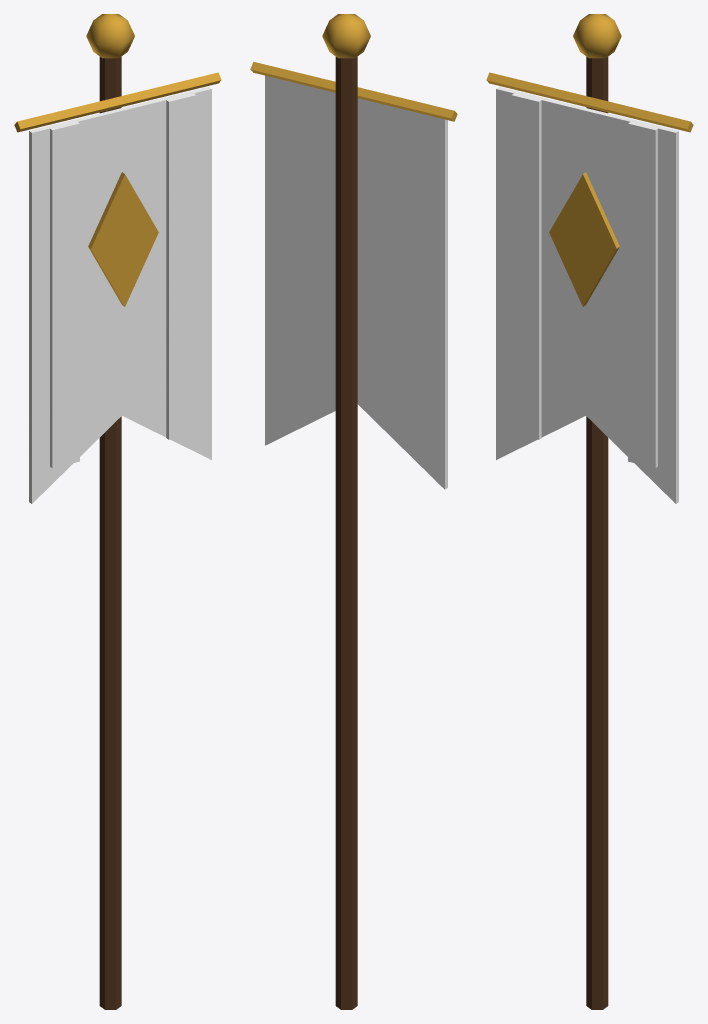
The model's file is castle_banner.glb.
3 renders of one model, left to right at view 1: azimuth 30°, elevation 25°; view 2: azimuth 150°, elevation 25°; view 3: azimuth 330°, elevation 25°, orthographic.
Visible parts, largest first — view 1: castle_banner; view 2: castle_banner; view 3: castle_banner.
Part boxes in pixels (box(x1,y1,x2,y2)): castle_banner: box(14, 14, 221, 1009); castle_banner: box(250, 14, 457, 1009); castle_banner: box(486, 14, 693, 1009).
Bounding box in the file's own units: 1.9 × 8.95 × 0.435.
